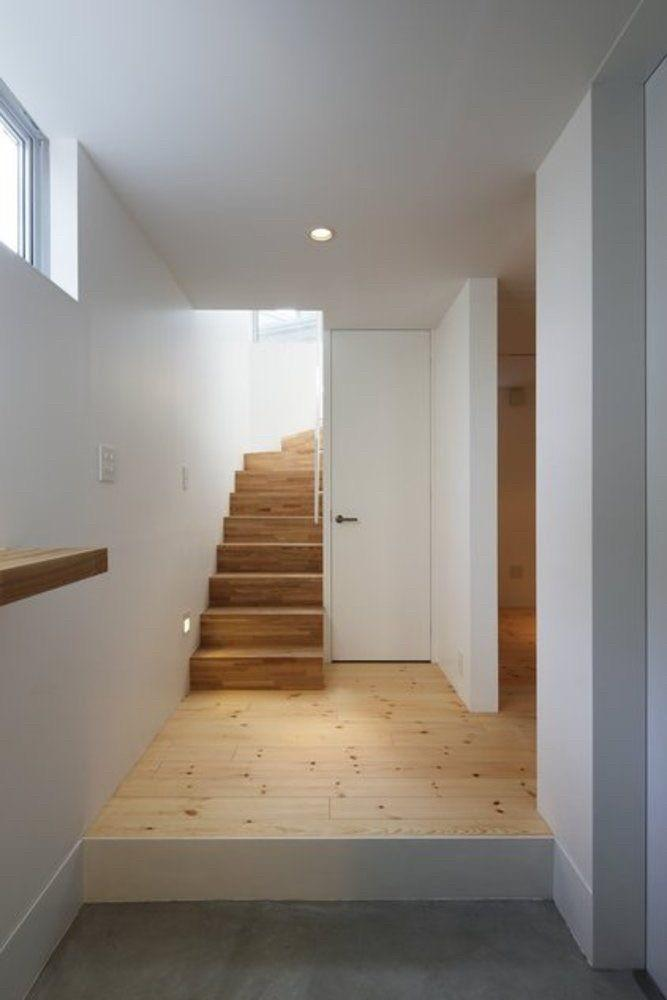floor: (24, 899, 666, 999)
safe: (81, 608, 555, 838)
